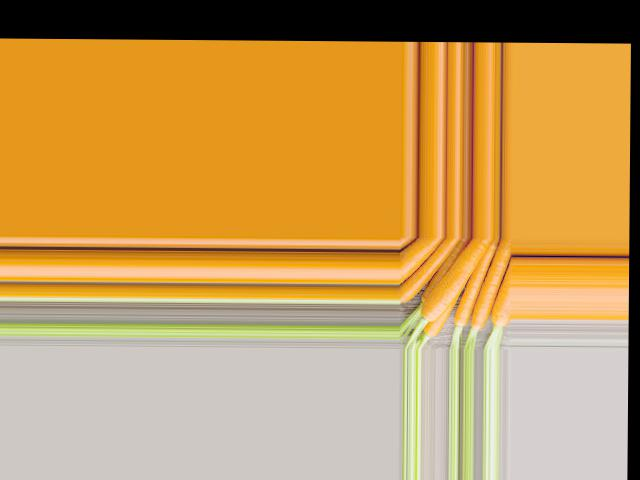carrot: (400, 236, 452, 303)
